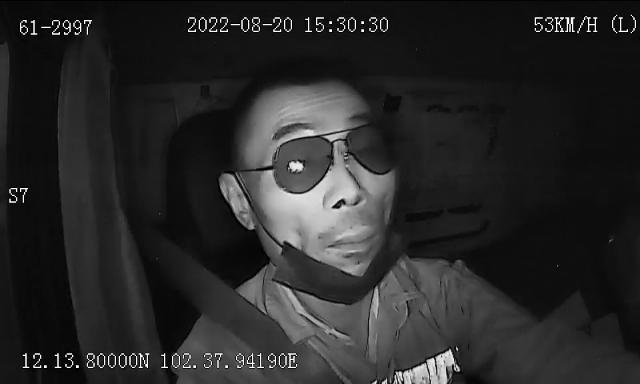SafeDriving: (278, 152, 318, 182)
Seatbelt: (178, 246, 344, 384)
